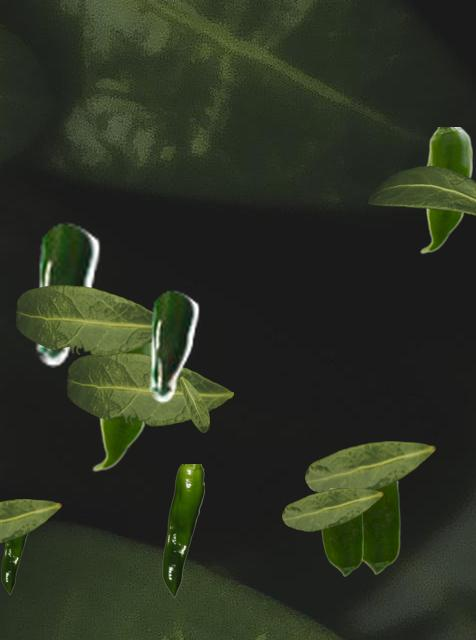green_chili: (32, 221, 100, 366), (91, 344, 150, 471), (419, 127, 471, 253), (146, 289, 199, 402), (162, 464, 203, 596), (321, 488, 362, 575), (363, 481, 399, 573), (1, 534, 28, 593)
